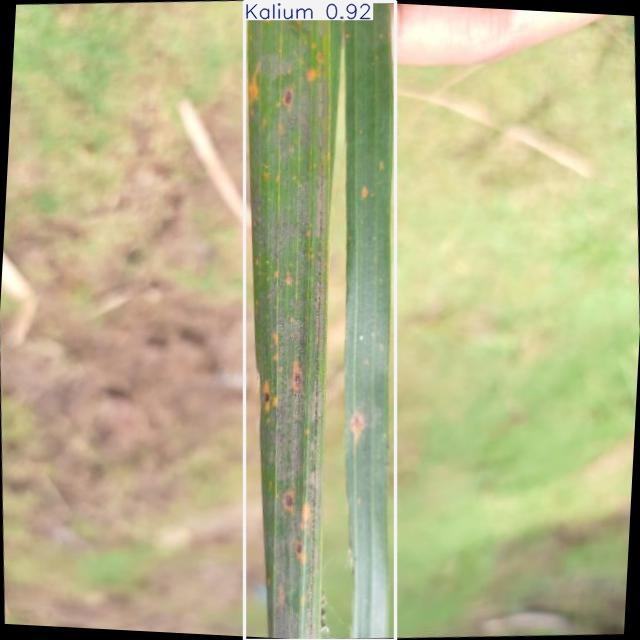Kalium: (245, 2, 396, 640)
